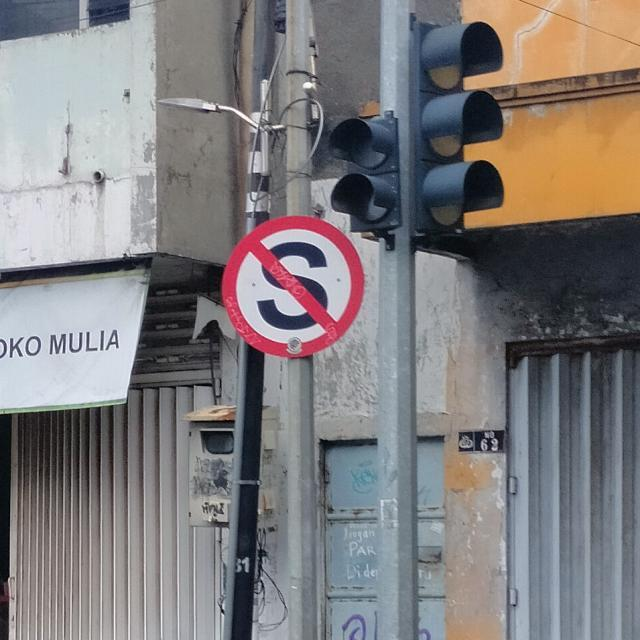Dilarang Berhenti: (222, 210, 368, 360)
